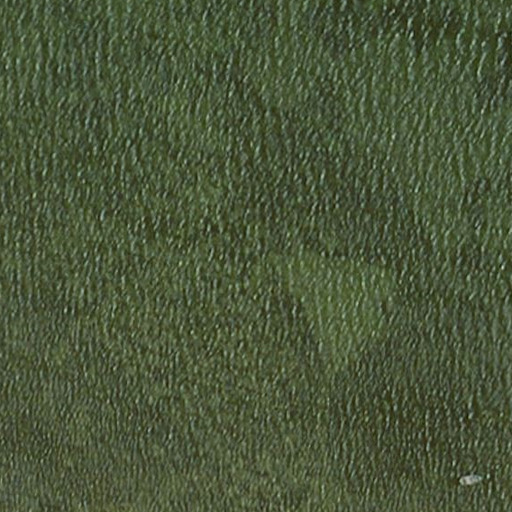ship: (456, 472, 485, 489)
